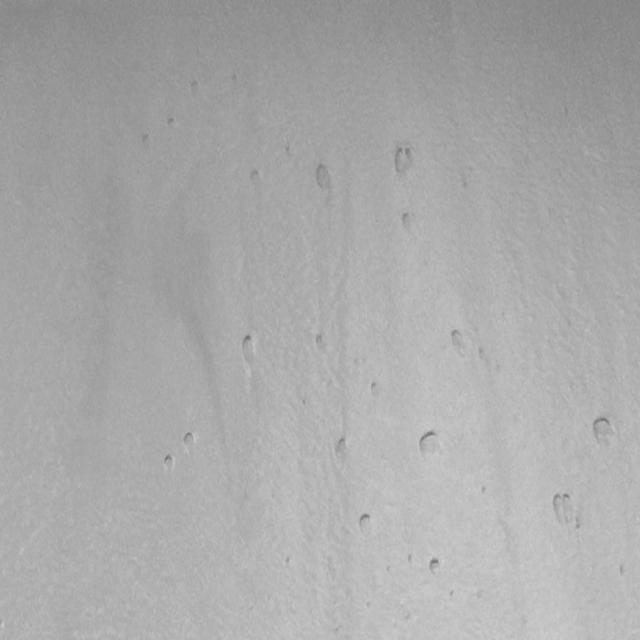pin holes: (548, 489, 578, 528), (446, 325, 474, 363), (591, 416, 619, 450), (390, 146, 418, 180), (418, 428, 446, 459), (238, 332, 261, 367), (311, 162, 333, 193), (282, 140, 300, 174), (357, 512, 379, 536), (332, 434, 352, 460), (245, 168, 264, 195), (397, 211, 417, 235), (180, 427, 198, 452), (160, 453, 178, 477), (428, 556, 446, 578), (314, 330, 331, 353), (138, 131, 154, 152), (164, 114, 180, 134), (369, 378, 382, 396), (189, 79, 202, 96), (616, 562, 626, 582), (448, 588, 458, 605), (479, 483, 491, 497), (406, 552, 416, 566), (284, 552, 291, 570)
